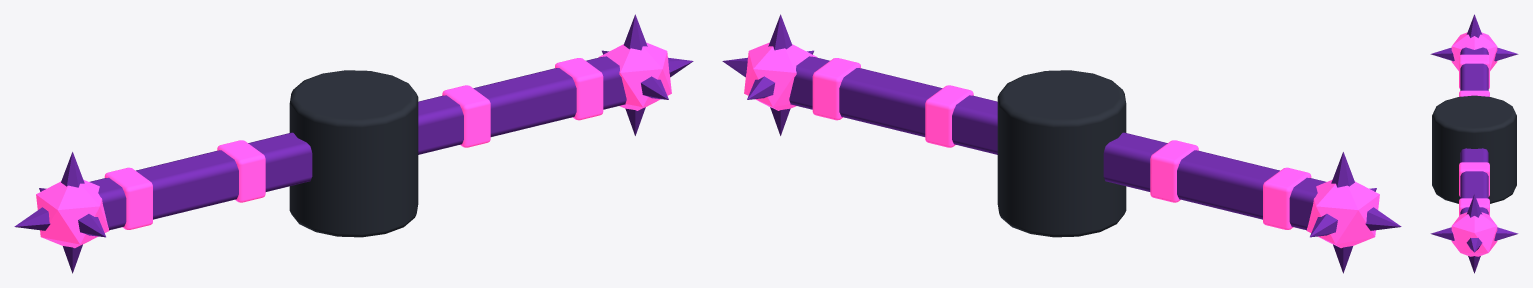
File: HAZ_Spinner.glb
The picture shows the model from 3 angles, left to right: view 1: azimuth 30°, elevation 25°; view 2: azimuth 150°, elevation 25°; view 3: azimuth 270°, elevation 25°; orthographic projection. The views are drawn at different scales.
Visible parts, largest first — view 1: Hub, Bar, Ball_-1, Ball_1, Stripe_3, Stripe_1, Stripe_2, Stripe_0, Spike_-1_1, Spike_1_4, Spike_-1_4, Spike_1_3 (+1 smaller); view 2: Hub, Bar, Ball_-1, Ball_1, Stripe_3, Stripe_1, Stripe_2, Stripe_0, Spike_-1_1, Spike_1_4, Spike_-1_4, Spike_1_2 (+1 smaller); view 3: Hub, Bar, Ball_1, Ball_-1, Stripe_0, Stripe_2, Stripe_3, Spike_1_4, Spike_-1_4, Stripe_1, Spike_-1_2, Spike_-1_3 (+4 smaller).
Boxes of the visible parts, x1,y1,x2,y2 form: Hub: (289,70,418,237); Bar: (90,56,626,230); Ball_-1: (36,180,109,248); Ball_1: (598,42,671,110); Stripe_3: (555,58,603,120); Stripe_1: (217,140,265,202); Stripe_2: (442,85,490,147); Stripe_0: (104,167,152,229); Spike_-1_1: (14,207,50,230); Spike_1_4: (624,14,647,50); Spike_-1_4: (61,152,84,187); Spike_1_3: (641,76,668,99); Hub: (997,70,1126,237); Bar: (789,56,1325,230); Ball_-1: (1306,180,1379,248); Ball_1: (744,42,817,110); Stripe_3: (812,58,860,120); Stripe_1: (1150,140,1198,202); Stripe_2: (925,85,973,147); Stripe_0: (1263,167,1311,229); Spike_-1_1: (1365,207,1401,230); Spike_1_4: (768,14,791,50); Spike_-1_4: (1331,152,1354,187); Spike_1_2: (747,76,774,99); Hub: (1432,95,1516,203); Bar: (1460,47,1488,214); Ball_1: (1451,212,1497,256); Ball_-1: (1451,32,1497,70); Stripe_0: (1459,54,1489,88); Stripe_2: (1459,162,1489,196); Stripe_3: (1459,198,1489,215); Spike_1_4: (1466,194,1482,217); Spike_-1_4: (1466,14,1482,37); Stripe_1: (1459,90,1489,96); Spike_-1_2: (1494,47,1518,61); Spike_-1_3: (1430,47,1454,61).
Bounding box in the file's own units: 7.25 × 1.32 × 1.25.
